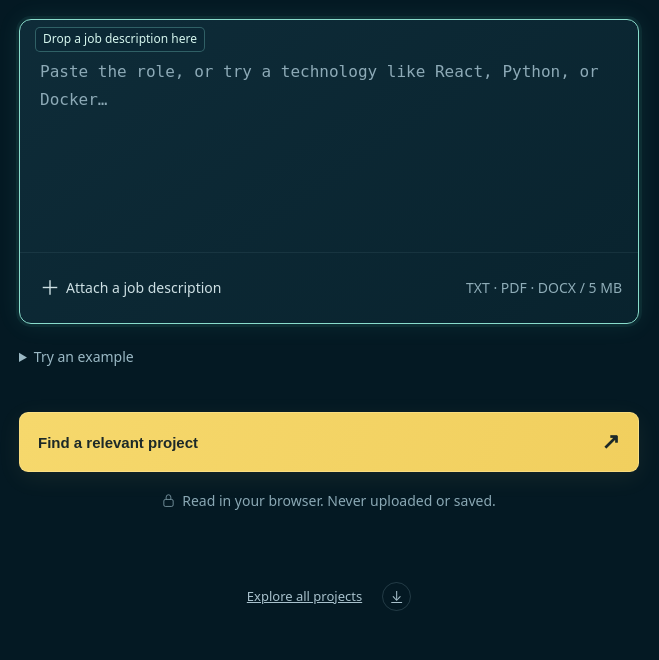
Test case: empty submit gives accessible error
This screenshot has width=659, height=660.
Click the button "Find a relevant project ↗".
click(118, 442)  # box [19, 412, 639, 472]
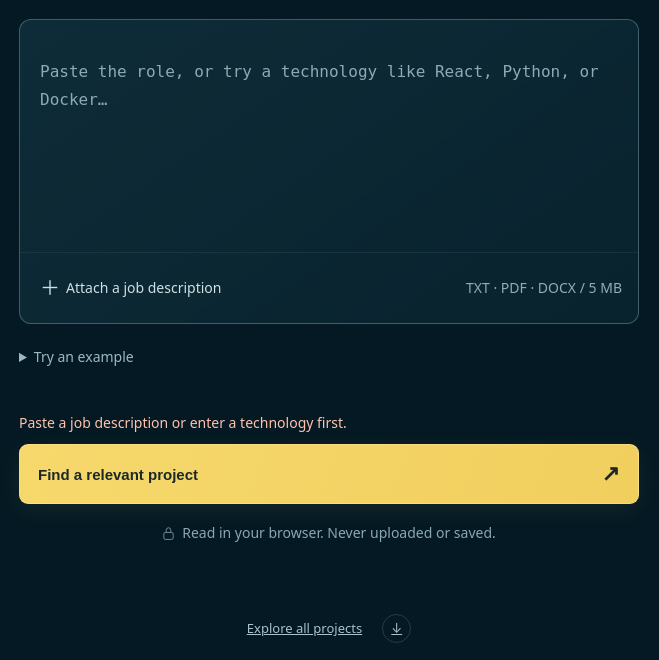
Expected: the message shows "Paste a job description", [19, 413, 347, 432]
